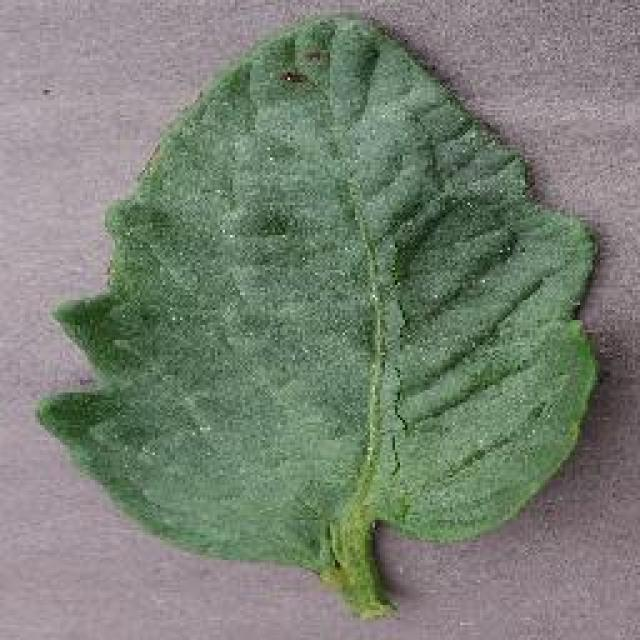Tomato___Bacterial_spot: (26, 11, 605, 625)
